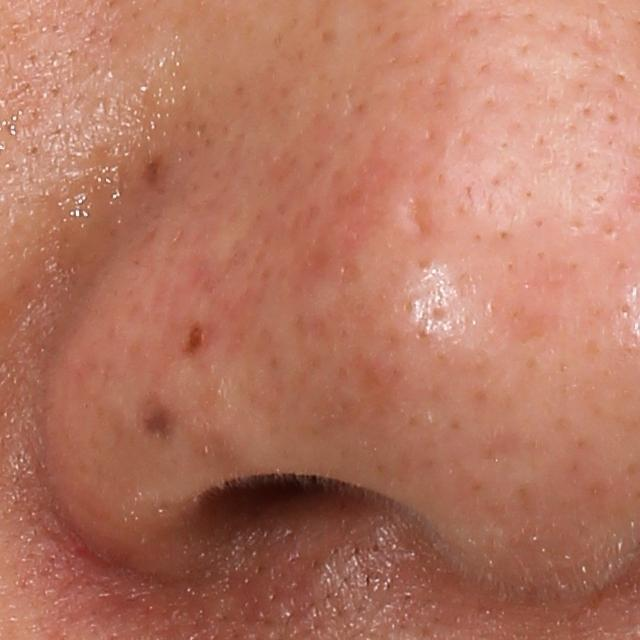atrophic_scar: (405, 187, 437, 239)
nevus: (180, 321, 213, 355), (138, 153, 164, 188)
